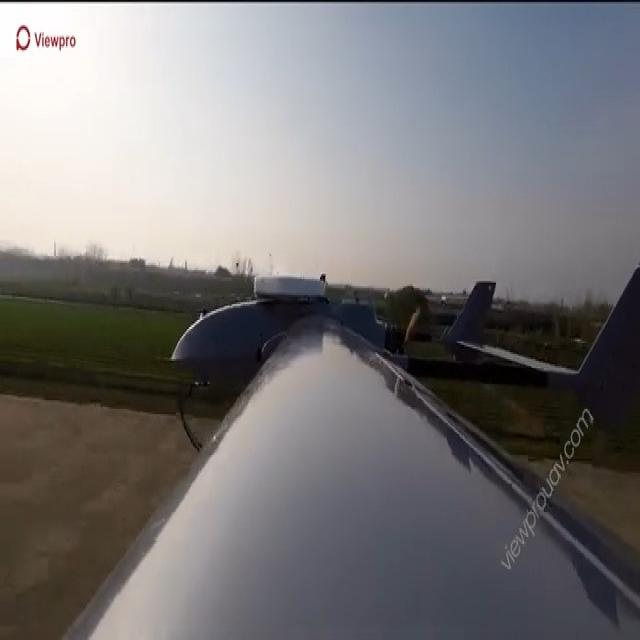drones: (152, 248, 640, 464)
